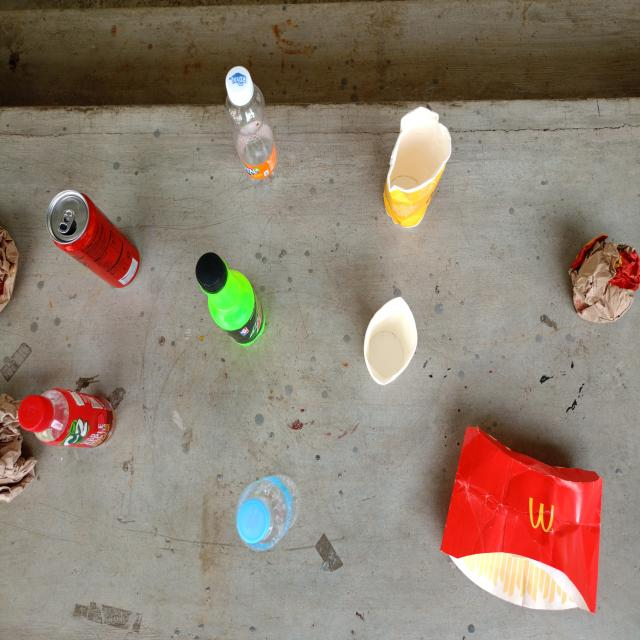Anorganik: (46, 188, 140, 288), (195, 250, 268, 348), (224, 65, 280, 187), (236, 468, 304, 556), (18, 388, 113, 449)
Organik: (441, 421, 603, 617), (380, 106, 452, 230), (567, 230, 640, 324), (361, 293, 419, 385)
